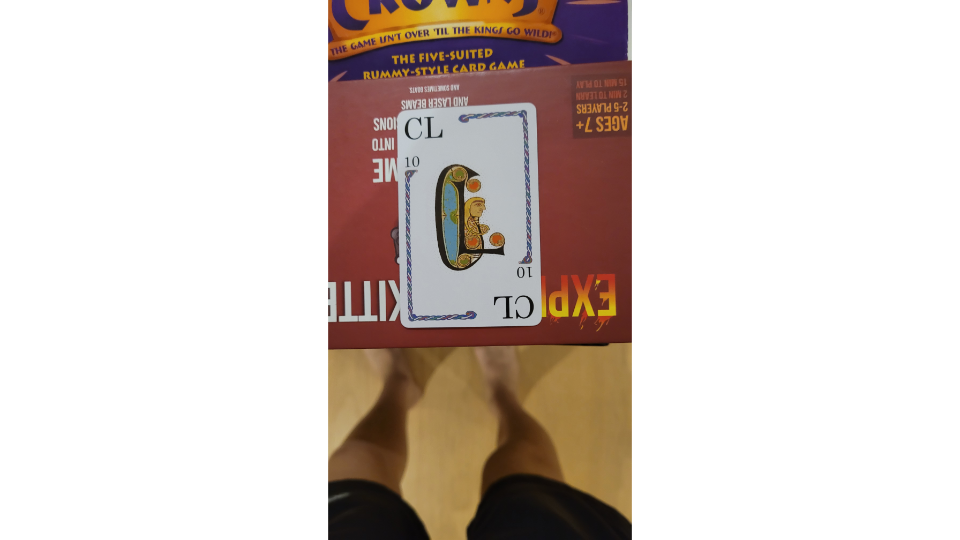CL: (392, 101, 547, 330)
